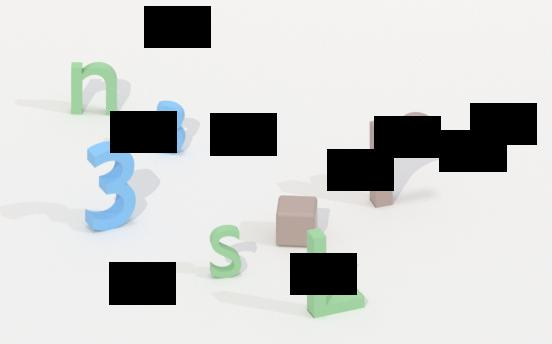3: (84, 141, 141, 230), (151, 97, 191, 155)
R: (363, 112, 453, 210)
hop: (271, 192, 320, 252)
l: (301, 224, 372, 316)
n: (66, 59, 127, 116)
s: (204, 223, 248, 281)
